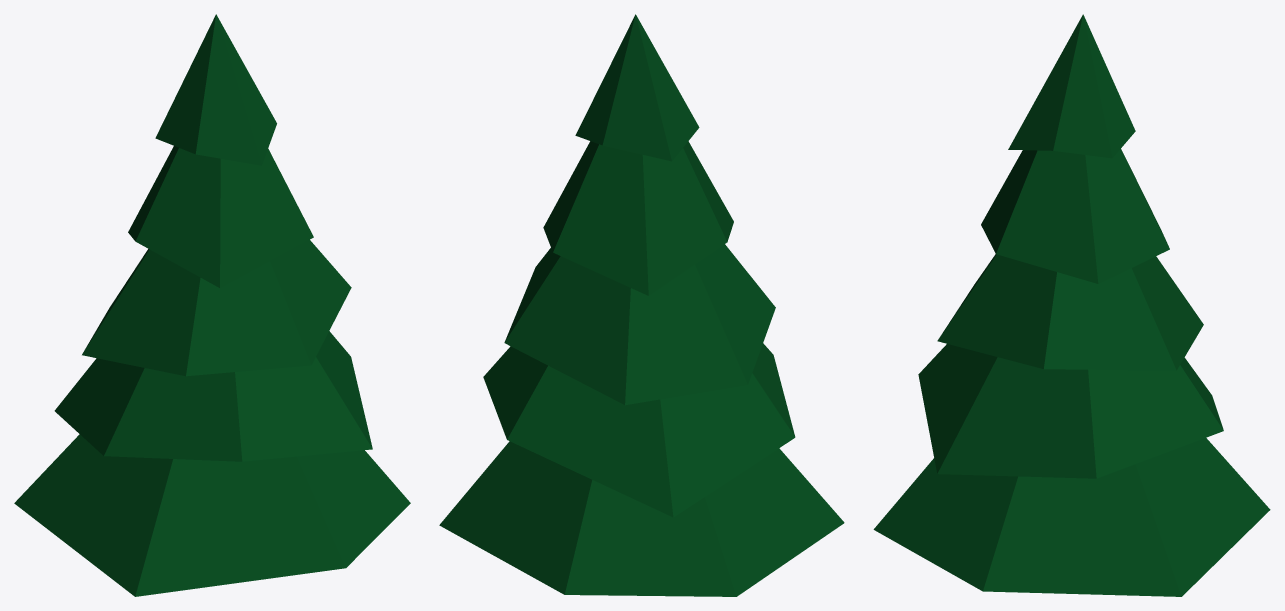
Rendered from Tree9.fbx.
3 renders of one model, left to right at view 1: azimuth 30°, elevation 25°; view 2: azimuth 150°, elevation 25°; view 3: azimuth 270°, elevation 25°, orthographic. The views are drawn at different scales.
Visible parts, largest first — view 1: Wood.004; view 2: Wood.004; view 3: Wood.004.
Part boxes in pixels (bbox=[...]): Wood.004: bbox=[14, 14, 410, 596]; Wood.004: bbox=[439, 14, 844, 596]; Wood.004: bbox=[873, 14, 1270, 596].
Bounding box in the file's own units: 462 × 809 × 521.
